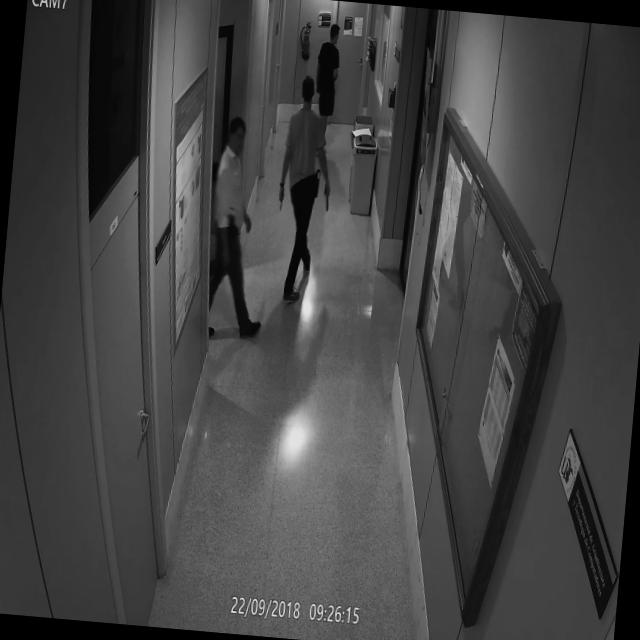gun: (316, 177, 335, 223)
person: (200, 110, 270, 343), (307, 18, 346, 156)
person with a gun: (268, 70, 334, 306)
